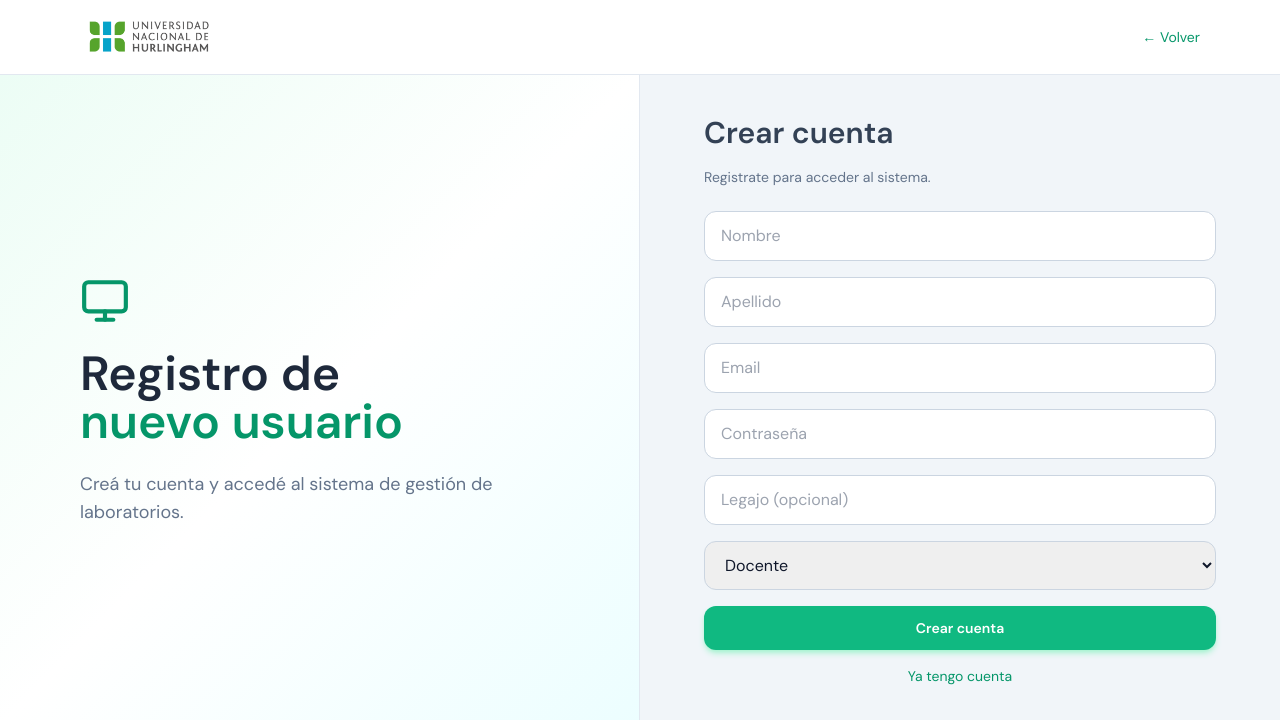
Test: RegistroForm Component › envía los datos correctamente y muestra la pantalla de confirmación
Type "Juan" into the field with placeholder "Nombre" at (960, 236), box [704,211,1216,261]
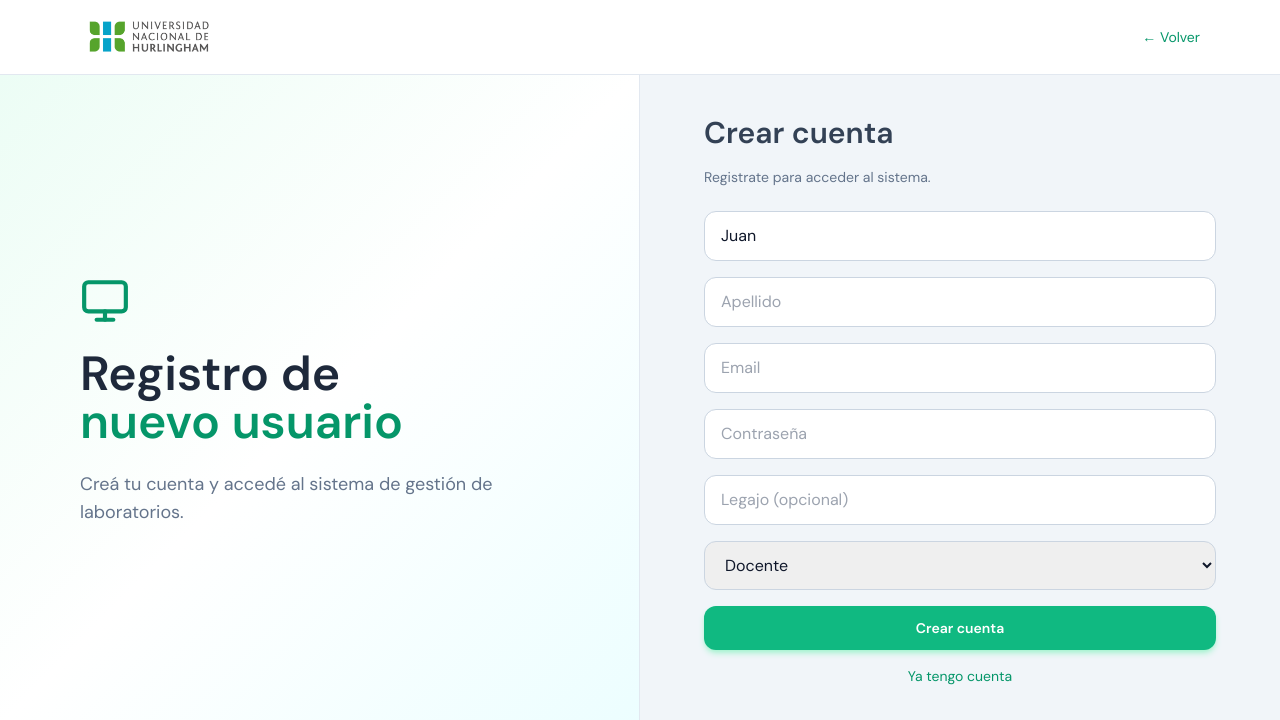
Type "Pérez" into the field with placeholder "Apellido" at (960, 302), box [704,277,1216,327]
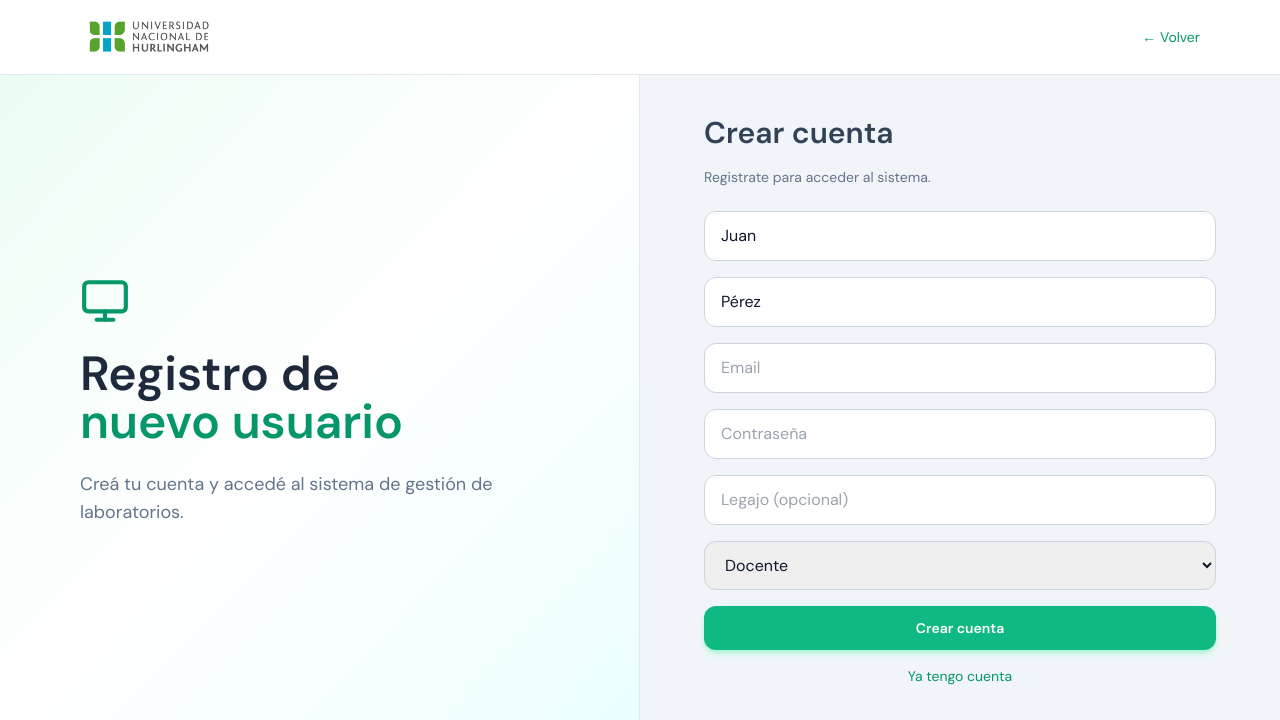
Type "juan@test.com" into the field with placeholder "Email" at (960, 368), box [704,343,1216,393]
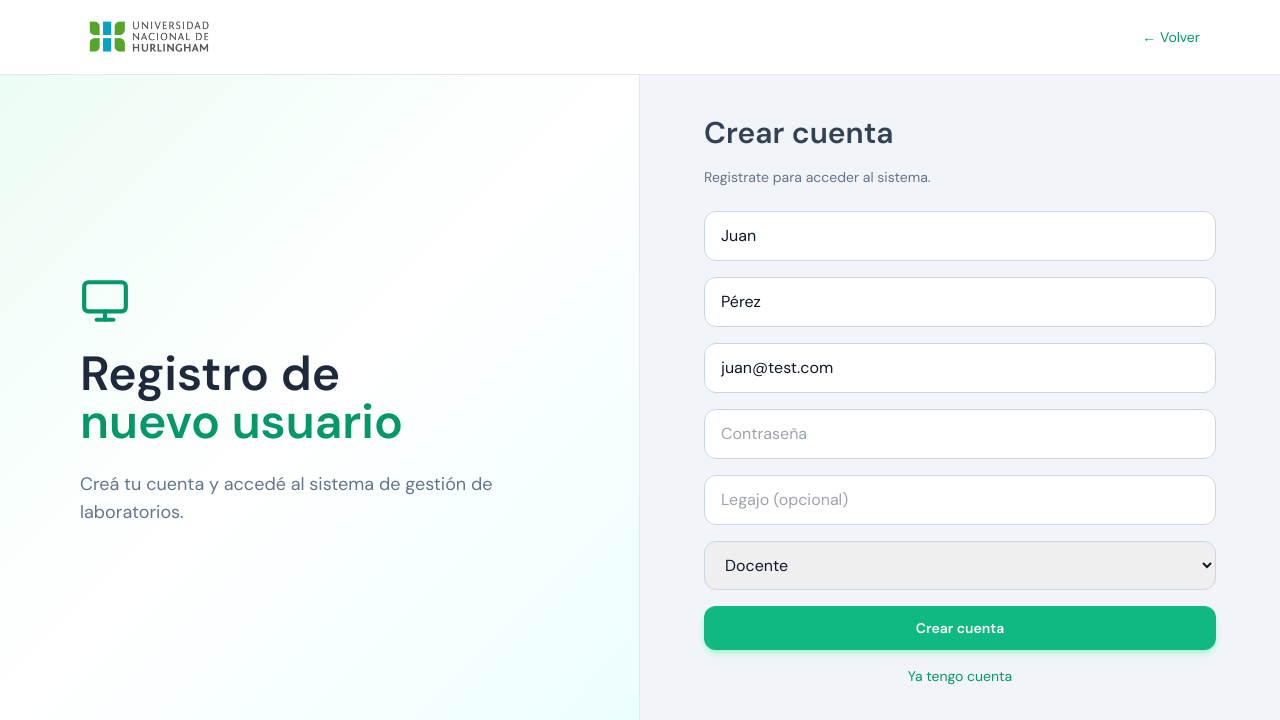
Type "123456" into the password field with placeholder "Contraseña" at (960, 434), box [704,409,1216,459]
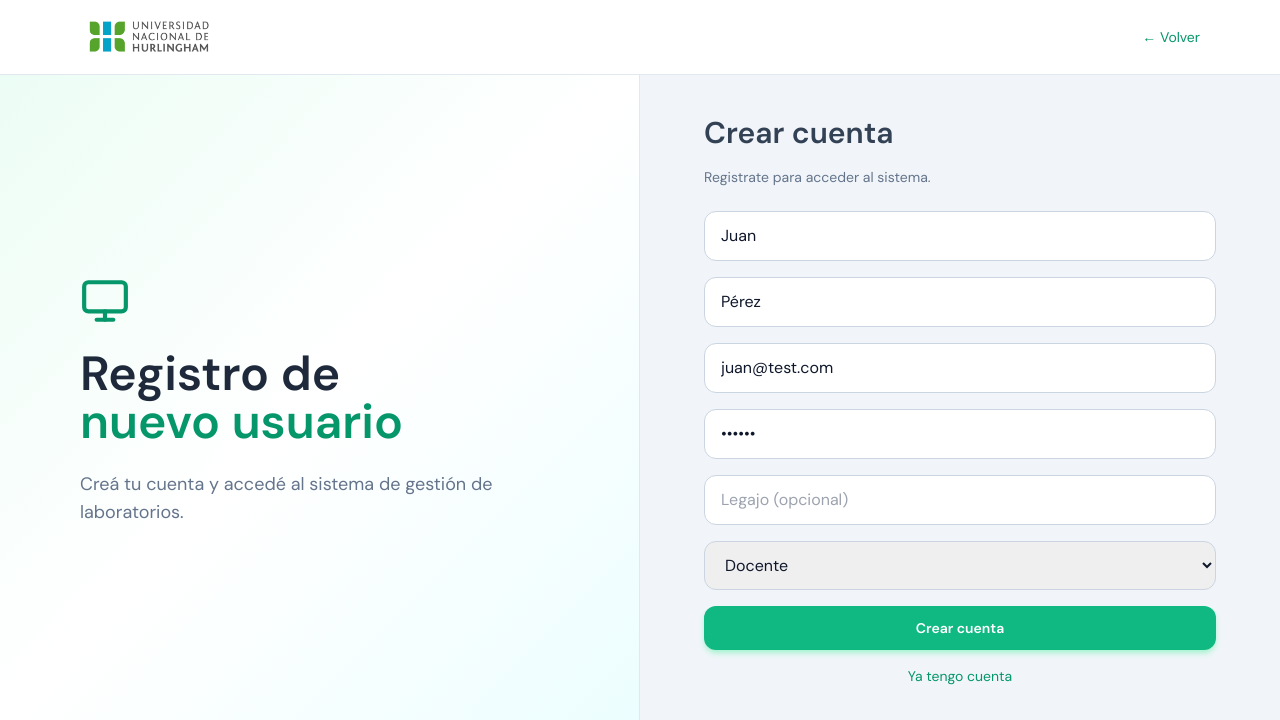
Submit the form, box [704,115,1216,686]
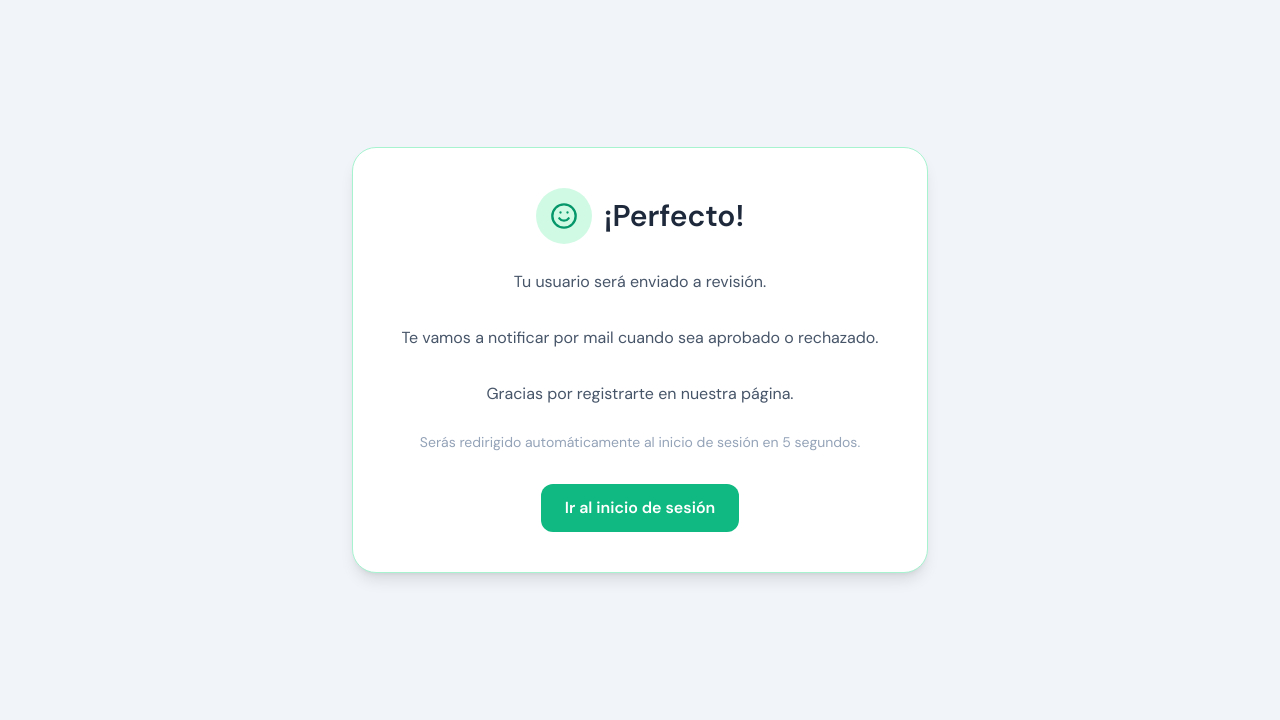
Expected: the heading "¡Perfecto!" is shown, [604,198,744,234]
Expected: the text "Tu usuario será enviado a revisión" is shown, [514,271,766,292]
